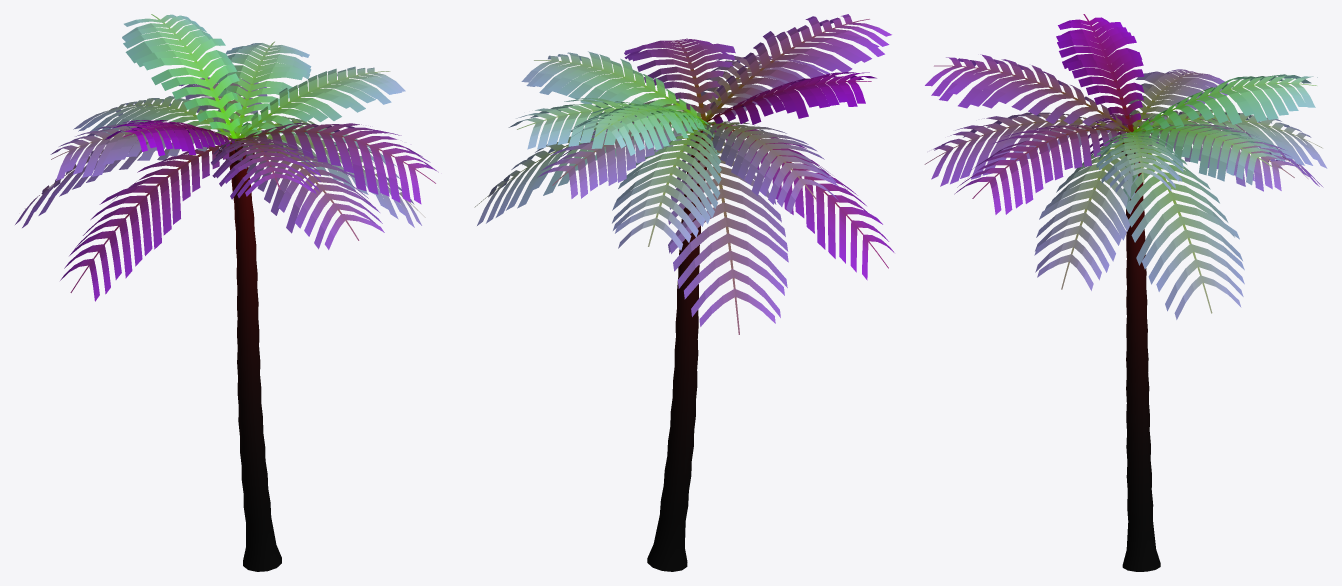
Rendered from Palm4.fbx.
The picture shows the model from 3 angles, left to right: view 1: azimuth 30°, elevation 25°; view 2: azimuth 150°, elevation 25°; view 3: azimuth 270°, elevation 25°; orthographic projection. The views are drawn at different scales.
Parts seen in each view (by area): view 1: Palm4; view 2: Palm4; view 3: Palm4.
Part boxes in pixels (x1,y1,x2,y2): Palm4: (15, 14, 438, 571); Palm4: (474, 14, 894, 571); Palm4: (924, 14, 1327, 571).
Bounding box in the file's own units: 8.81 × 11.47 × 8.82.
